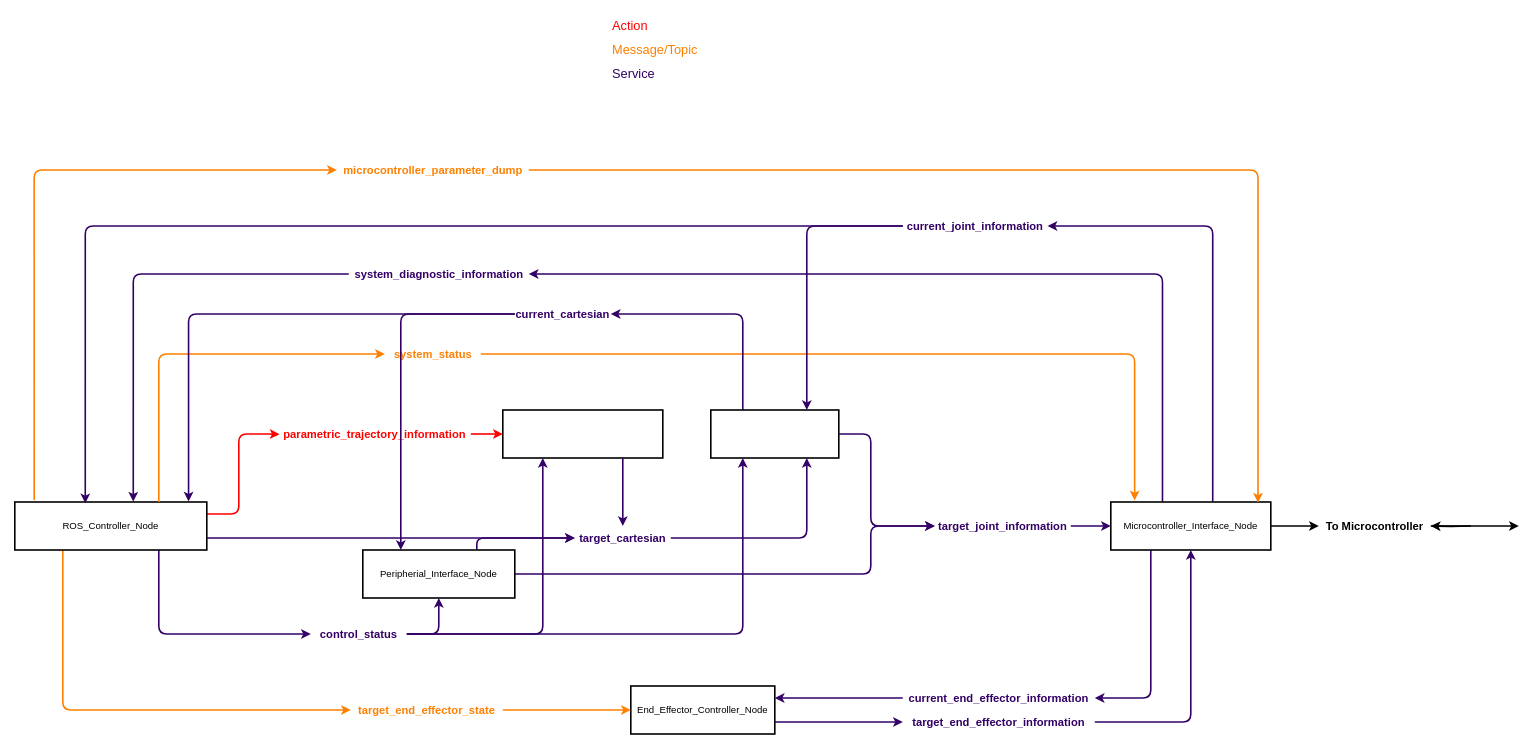
The diagram is 1539 pixels wide and 748 high, and some of its shapes have lost their labels. The shapes that lost their labels are listed below. From the top down, each one's centre as x and y in pixels, then its label:
point 582,433: Trajectory_Controller_Node
point 774,433: IK_Solver_Node
